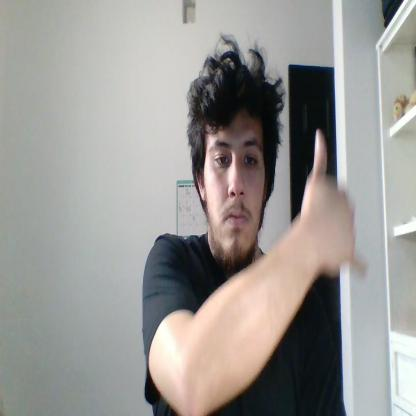Y: (300, 129, 367, 276)
